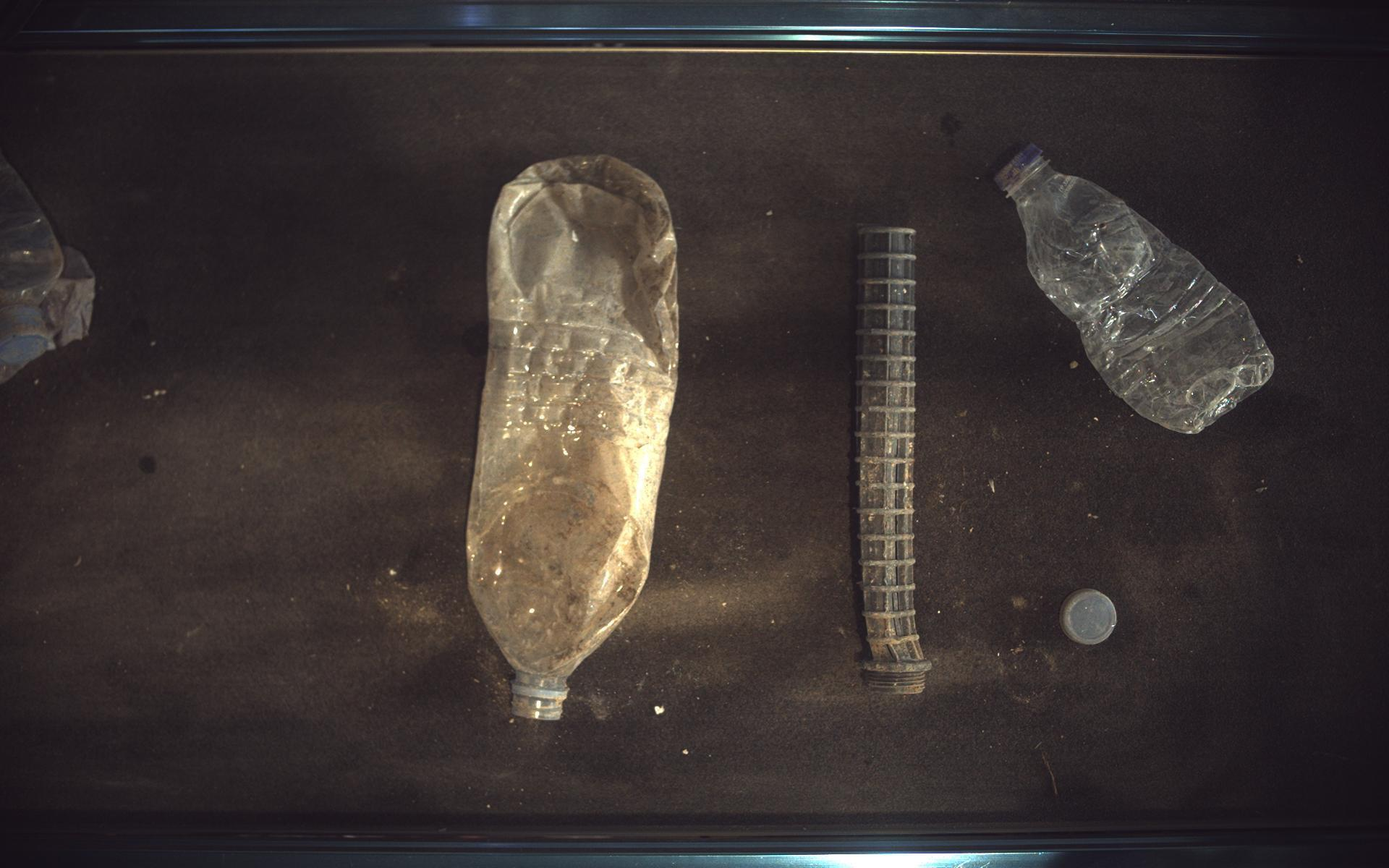general_w: (467, 155, 678, 722), (996, 143, 1277, 434), (1, 154, 63, 383), (40, 245, 94, 346), (1062, 590, 1119, 646)
plastic: (856, 226, 933, 694)
